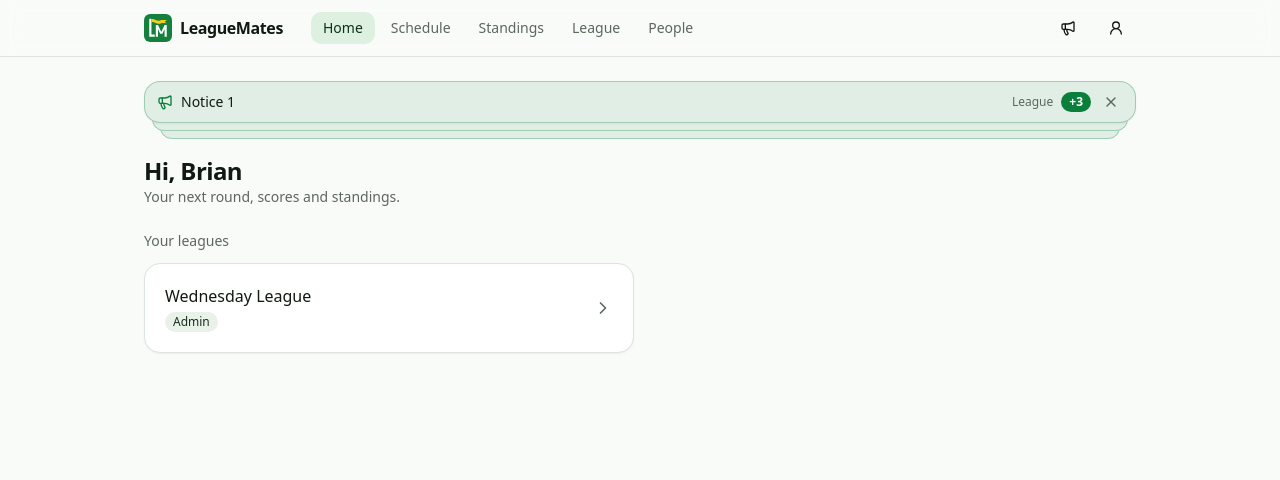
it: notice banners › fan out and fold back; dismissing the top one brings up the next
The image size is (1280, 480).
Expected: the button "+3" is shown, left=1061, top=92, right=1091, bottom=112
Step 1. Click the button named "Dismiss Notice 1" → (1111, 102), box left=1099, top=90, right=1123, bottom=114
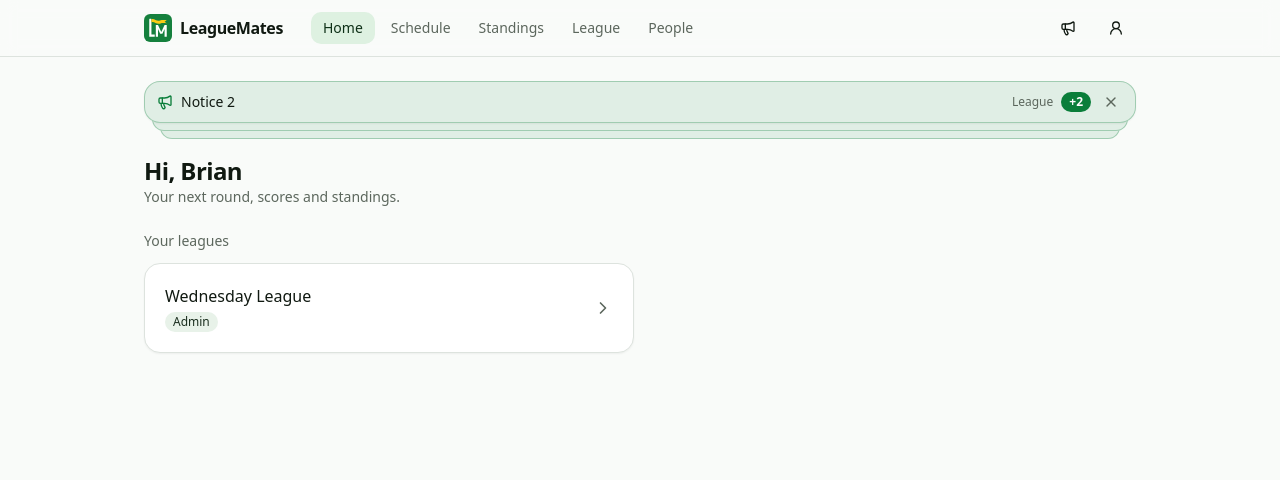
Expected: the text "Notice 2" is shown, left=181, top=92, right=235, bottom=112
Expected: the button "+2" is shown
Step 2. Click the button named "Show all 3 notices" → (1076, 102), box left=1061, top=92, right=1091, bottom=112
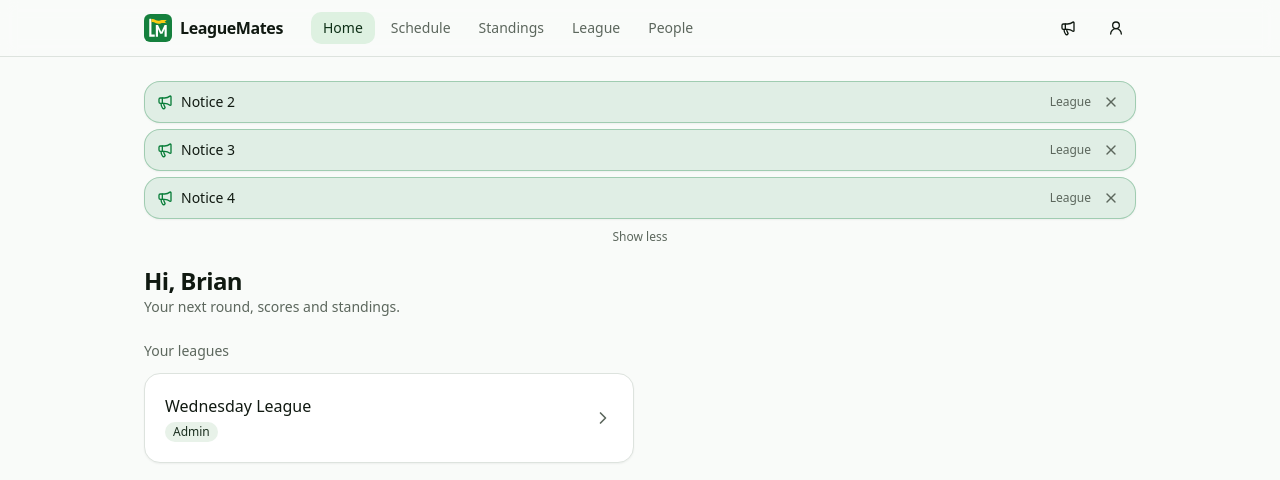
Expected: the number of buttons named "Dismiss" is 3, left=1099, top=90, right=1123, bottom=114; left=1099, top=138, right=1123, bottom=162; left=1099, top=186, right=1123, bottom=210
Step 3. Click the button "Show less" → (640, 237), box left=600, top=225, right=679, bottom=249
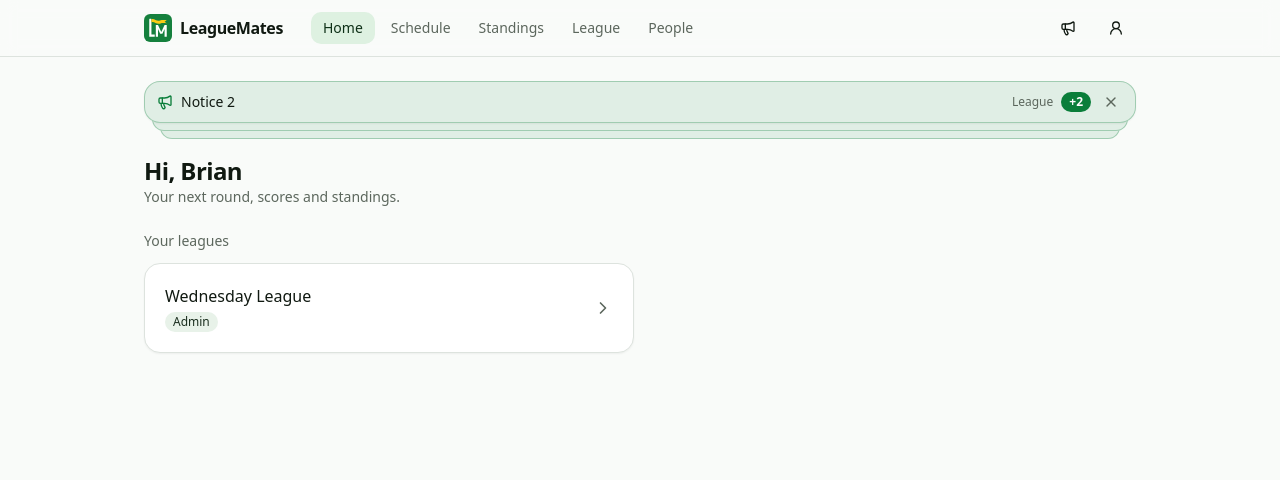
Expected: the number of buttons named "Dismiss" is 1, left=1099, top=90, right=1123, bottom=114
